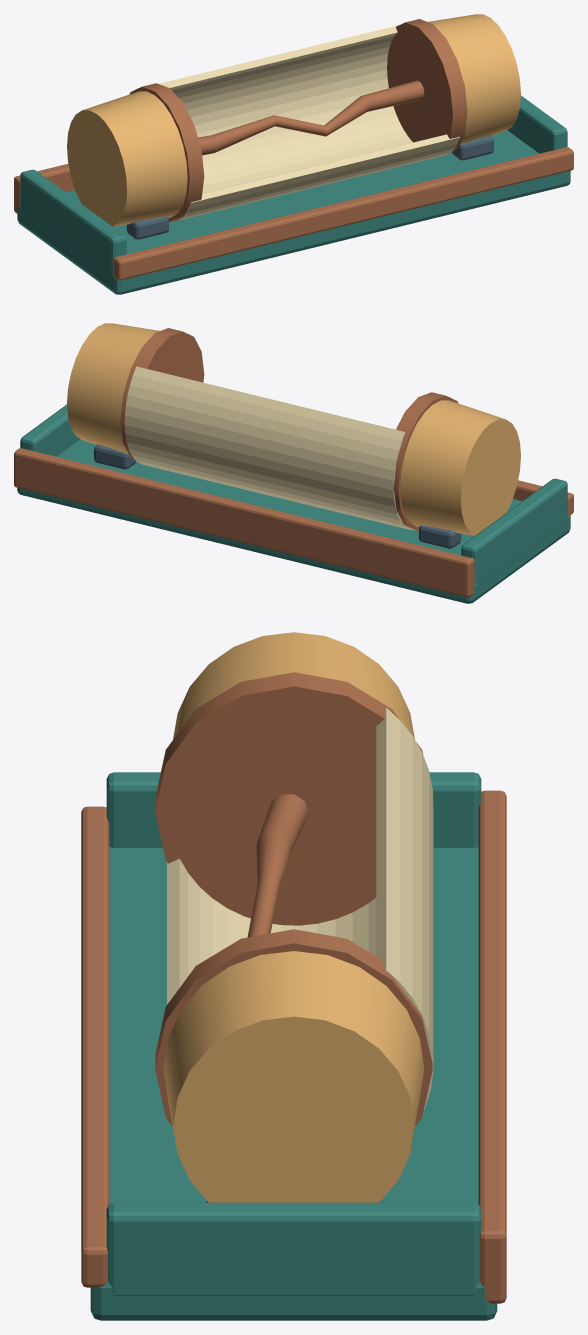
The picture shows the model from 3 angles, top to bottom: view 1: azimuth 30°, elevation 25°; view 2: azimuth 150°, elevation 25°; view 3: azimuth 270°, elevation 25°; orthographic projection. The views are drawn at different scales.
Visible parts, largest first — view 1: PR141 enamel and hardware; view 2: PR141 enamel and hardware; view 3: PR141 enamel and hardware.
Part boxes in pixels (<box>): PR141 enamel and hardware: <box>14,14,573,294</box>; PR141 enamel and hardware: <box>14,323,573,603</box>; PR141 enamel and hardware: <box>81,632,506,1320</box>.
Size of the model in its own units: 0.13 by 0.0401 by 0.0525.
